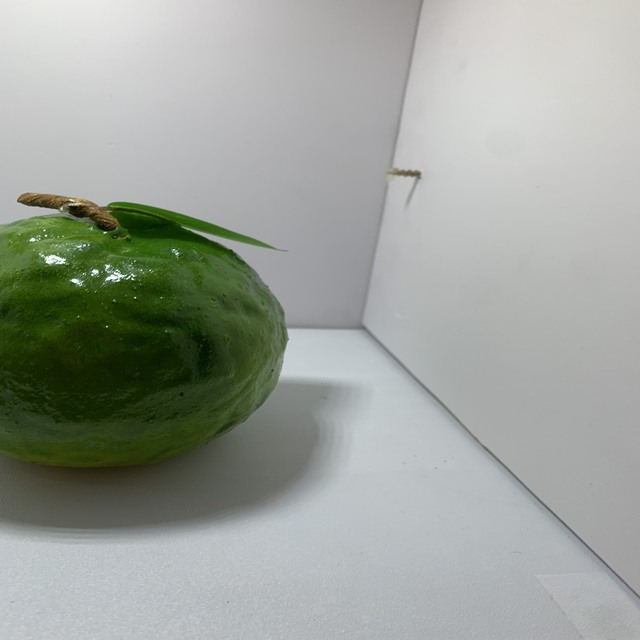Cam xanh: (0, 192, 296, 479)
